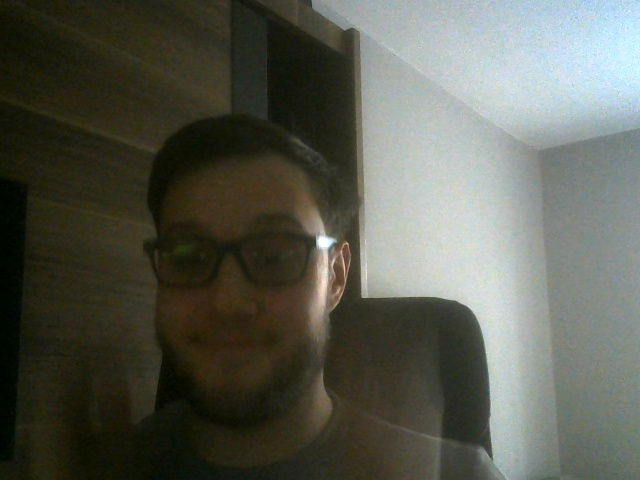happy: (145, 118, 352, 425)
